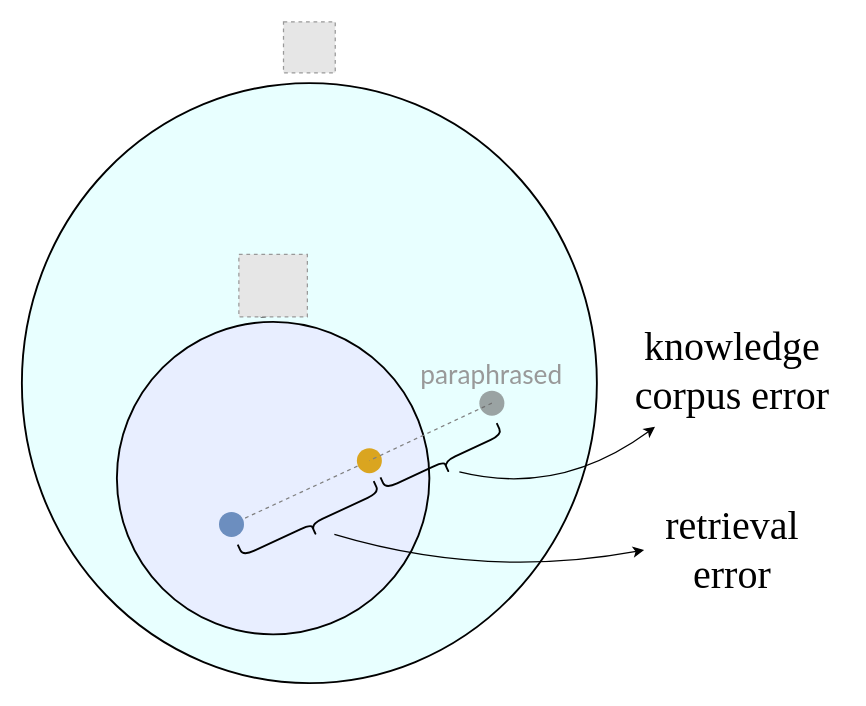
Some shapes in this 866 by 706 pixel diagram are drawn without their labels. Grey dashed boxes stand in for pictures. The centre of each missing label's shape, as x and y in pixels:
gold: (x=368, y=460)
retrieved: (x=230, y=523)
